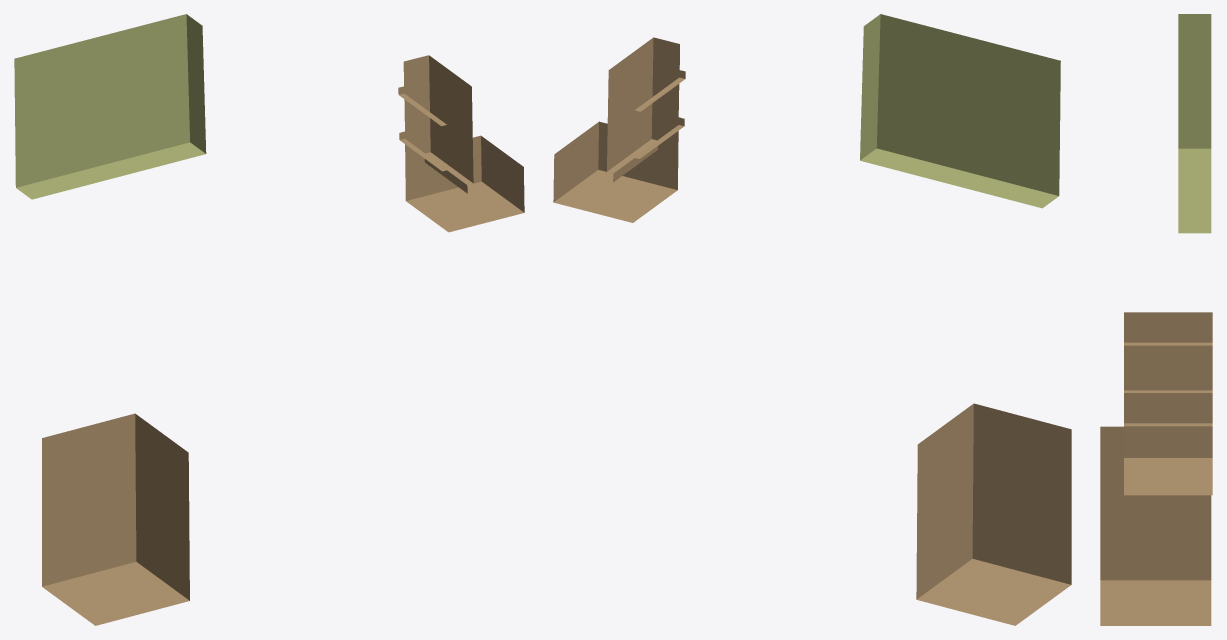
3 views of the same model, side by side, from view 1: azimuth 30°, elevation 25°; view 2: azimuth 150°, elevation 25°; view 3: azimuth 270°, elevation 25° (orthographic). The views are drawn at different scales.
Visible parts, largest first — view 1: 0_0_1_1_3_2_1; view 2: 0_0_1_1_3_2_1; view 3: 0_0_1_1_3_2_1.
Part boxes in pixels (bbox=[...]): 0_0_1_1_3_2_1: bbox=[14, 14, 524, 625]; 0_0_1_1_3_2_1: bbox=[553, 14, 1071, 625]; 0_0_1_1_3_2_1: bbox=[1100, 14, 1212, 625].
Size of the model in its own units: 151 by 166 by 30.36.
